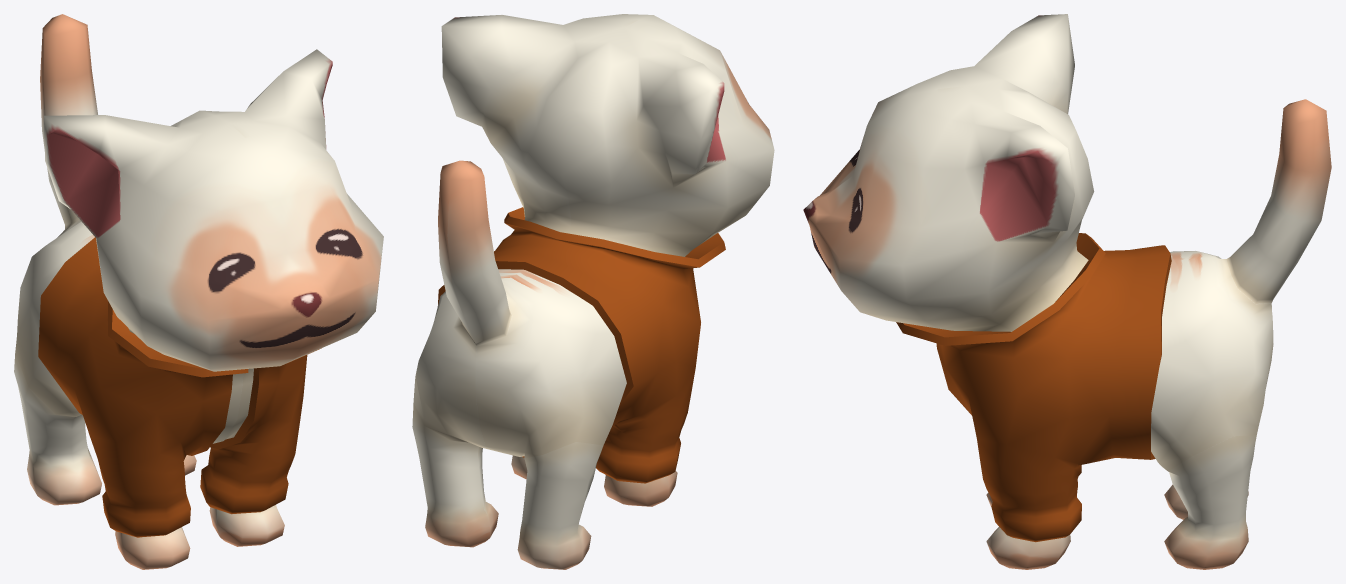
Rendered from Varsity Cat02.fbx.
3 views of the same model, side by side, from view 1: azimuth 30°, elevation 25°; view 2: azimuth 150°, elevation 25°; view 3: azimuth 270°, elevation 25° (orthographic). The views are drawn at different scales.
Visible parts, largest first — view 1: Cat_Base001, Varsity_Cat_Jersey; view 2: Cat_Base001, Varsity_Cat_Jersey; view 3: Cat_Base001, Varsity_Cat_Jersey.
Part boxes in pixels (x1,y1,x2,y2): Cat_Base001: (14, 14, 383, 569); Varsity_Cat_Jersey: (38, 237, 321, 537); Cat_Base001: (412, 14, 774, 569); Varsity_Cat_Jersey: (438, 207, 725, 483); Cat_Base001: (803, 14, 1331, 569); Varsity_Cat_Jersey: (896, 233, 1171, 542).
Size of the model in its own units: 1.75 by 2.83 by 2.68.
2 materials, 1 textured.
